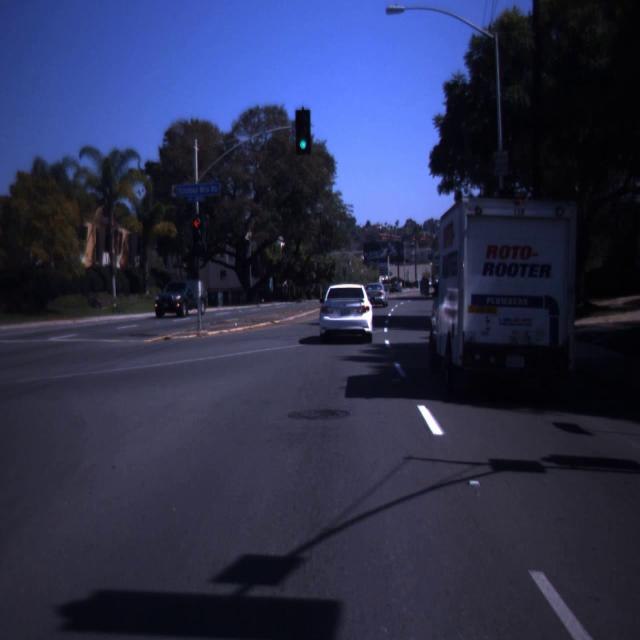kirmizi: (192, 215, 206, 253)
yesil: (296, 110, 311, 154)
